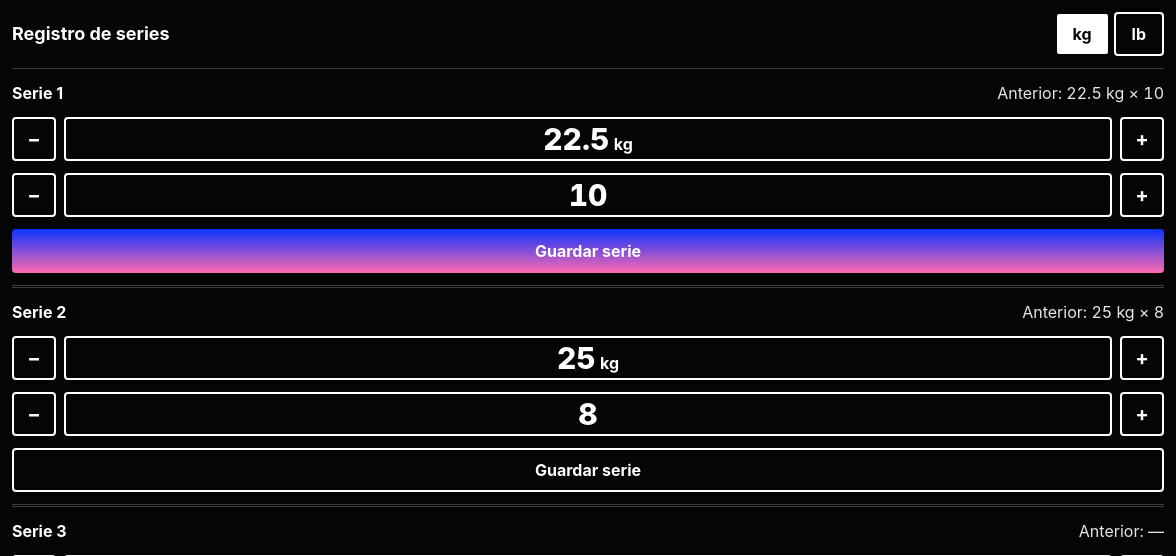
Scenario: LoggingSection — guardado (R5, R6, R7, R10) › R6: fallo → mensaje en español, valores intactos, reintento con un solo insert extra
Check: the heading "Serie 1" is shown, box [12,81,63,105]
Step 1. Click the button named "Aumentar Peso serie 1" → (1142, 139), box [1120,117,1164,161]
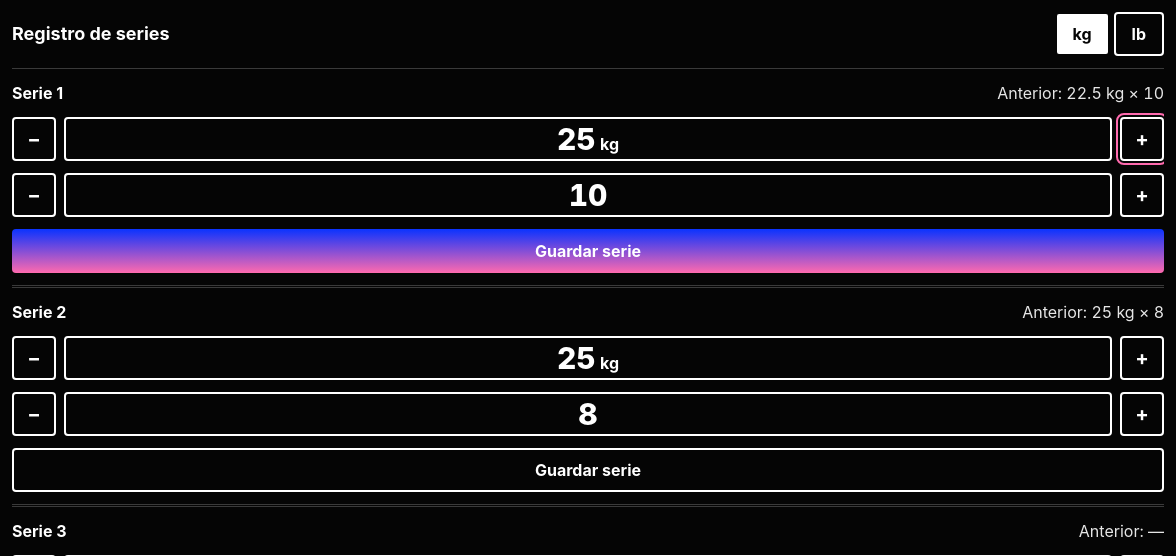
Step 2. Click the button "Guardar serie" below "22.5 kg × 10" → (588, 251), box [12,229,1164,273]
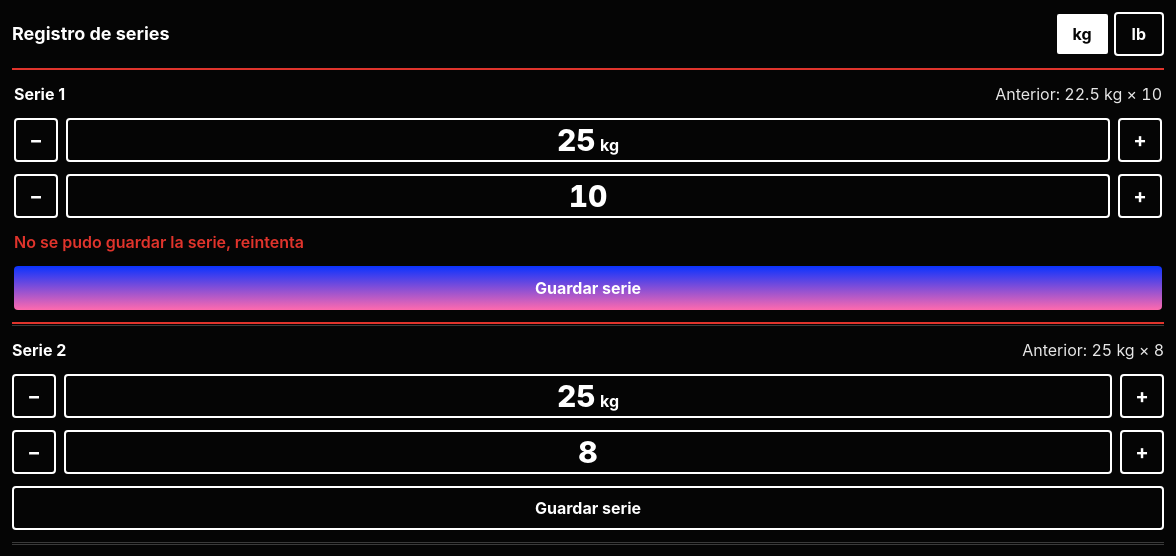
Check: the button with aria-label "Peso serie 1" reads "25 kg", box [66,118,1110,162]
Check: the message reads "No se pudo guardar la serie, reintenta", box [14,232,304,252]
Step 3. Click the button "Guardar serie" below "22.5 kg × 10" → (588, 288), box [14,266,1162,310]
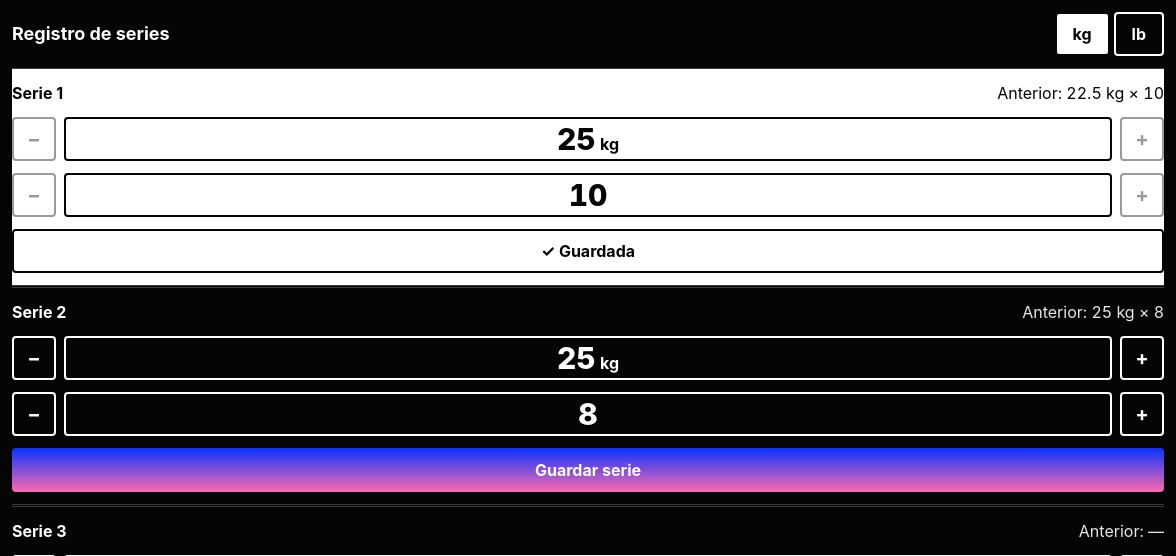
Check: the button "✓ Guardada" is shown, box [12,229,1164,273]
